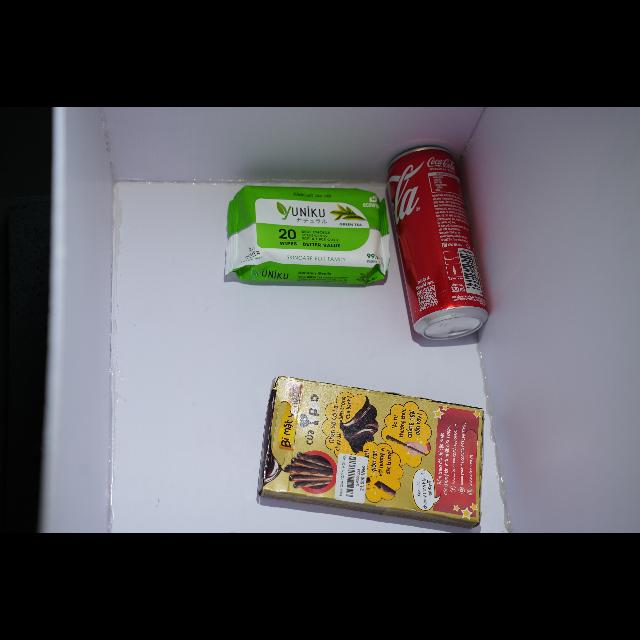banh_toppo_socola: (260, 377, 484, 527)
coca_cola: (387, 147, 489, 340)
khan_giay: (225, 186, 389, 284)
